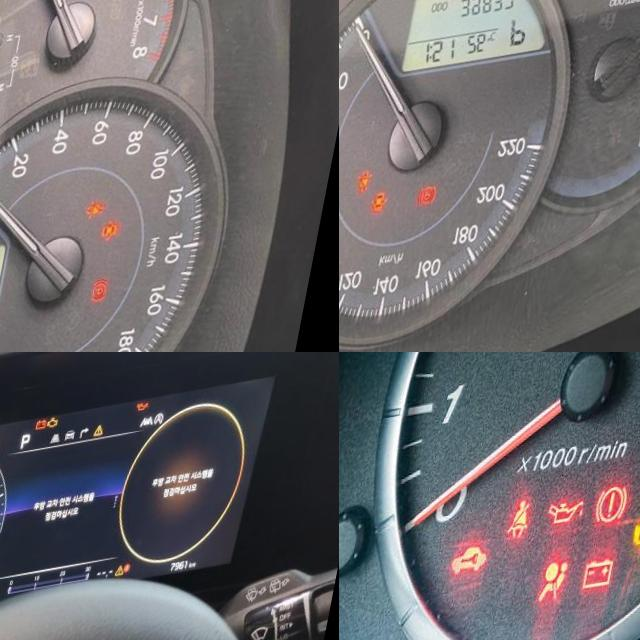Central Warning lamp: (103, 436, 115, 449)
Seat Belt: (370, 178, 387, 205), (96, 211, 118, 231)
